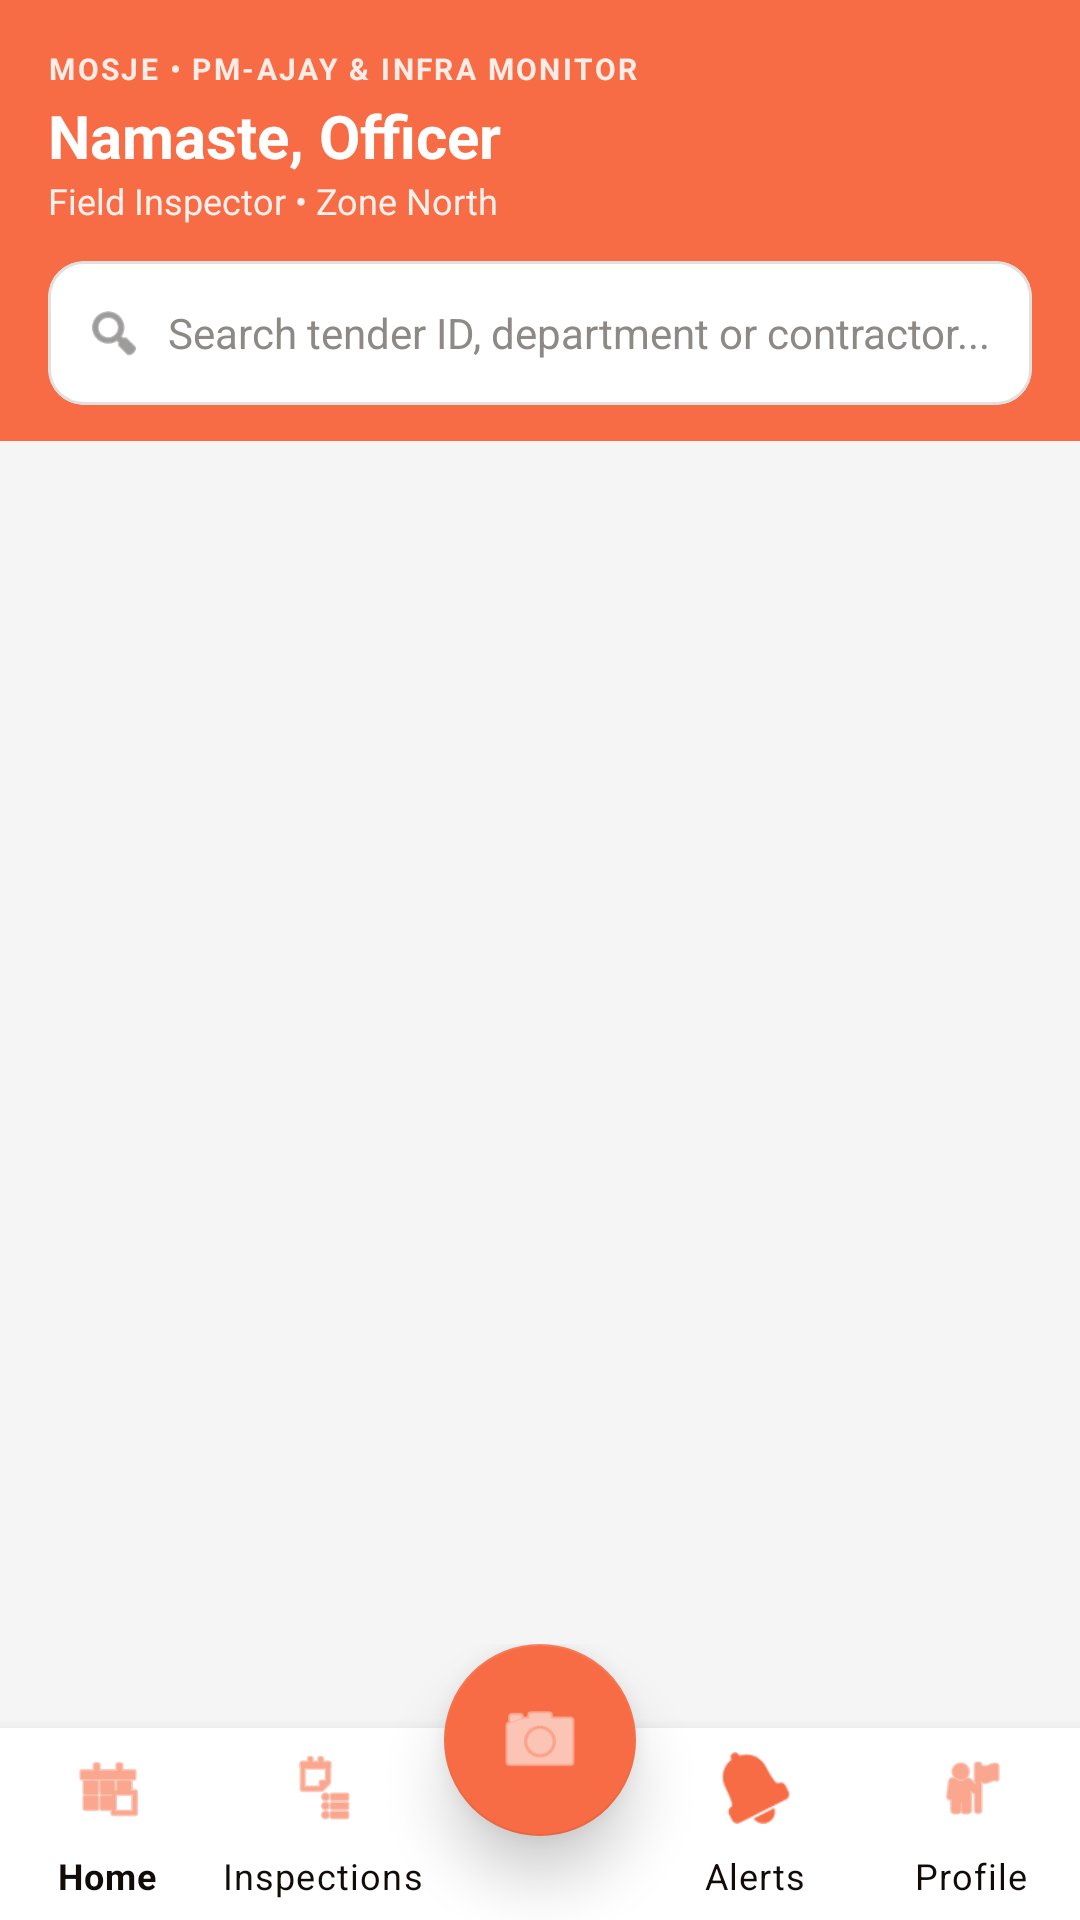

Point at icon controls on the screen. Image size 1080w x 1920h, points as point (x, y).
Capture Evidence: point (540, 1740)
